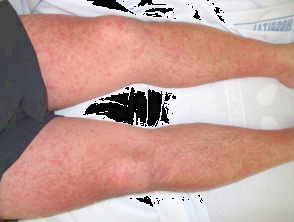SJS-TEN: (18, 0, 291, 112), (0, 94, 236, 222)
